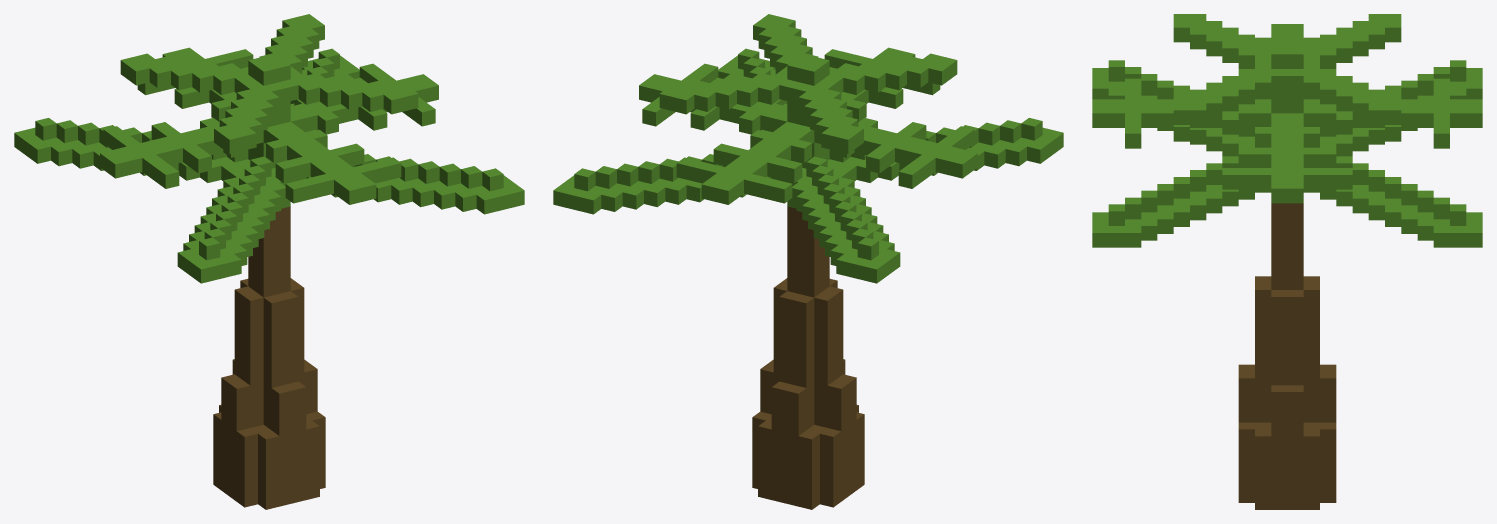
The model's file is Background_C_tree_03.FBX.
3 views of the same model, side by side, from view 1: azimuth 30°, elevation 25°; view 2: azimuth 150°, elevation 25°; view 3: azimuth 270°, elevation 25° (orthographic). The views are drawn at different scales.
Visible parts, largest first — view 1: Background_C-6; view 2: Background_C-6; view 3: Background_C-6.
Boxes of the visible parts, box(x1,y1,x2,y2) form: Background_C-6: box(14, 14, 524, 509); Background_C-6: box(553, 14, 1063, 509); Background_C-6: box(1092, 14, 1482, 509).
Bounding box in the file's own units: 2.4 × 3 × 2.4.
1 material, 1 textured.
